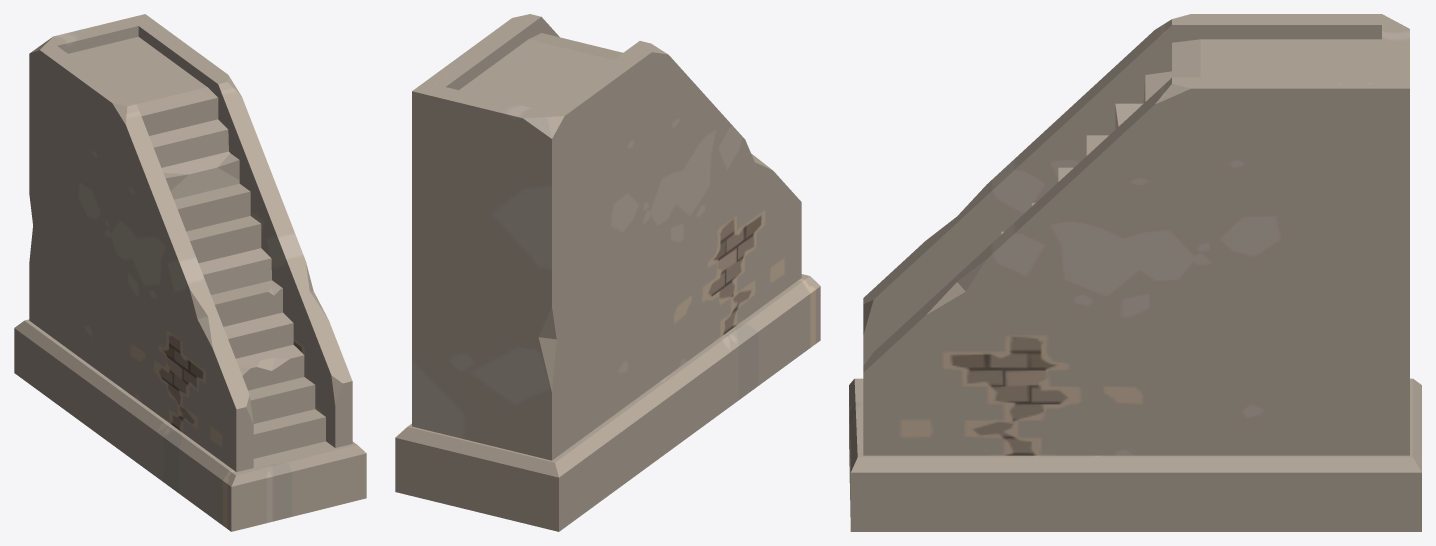
The model's file is SM_Bld_Village_Stairs_Large_01.fbx.
3 renders of one model, left to right at view 1: azimuth 30°, elevation 25°; view 2: azimuth 150°, elevation 25°; view 3: azimuth 270°, elevation 25°, orthographic. The views are drawn at different scales.
Visible parts, largest first — view 1: SM_Bld_Village_Stairs_Large_01; view 2: SM_Bld_Village_Stairs_Large_01; view 3: SM_Bld_Village_Stairs_Large_01.
Boxes of the visible parts, left/top/right/bottom form: SM_Bld_Village_Stairs_Large_01: left=14, top=14, right=366, bottom=531; SM_Bld_Village_Stairs_Large_01: left=395, top=14, right=820, bottom=531; SM_Bld_Village_Stairs_Large_01: left=849, top=14, right=1421, bottom=531.
Bounding box in the file's own units: 196 × 458 × 544.
